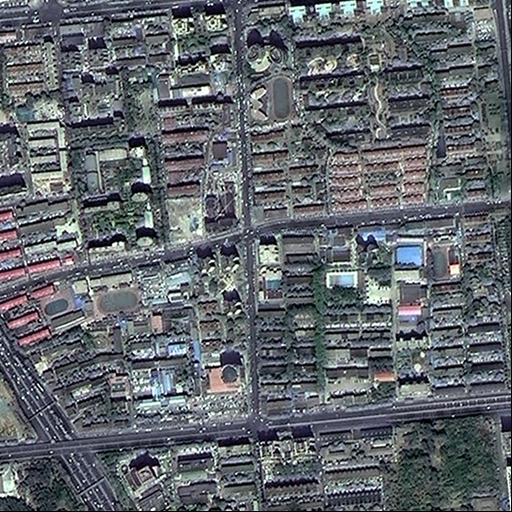school: (72, 268, 143, 330), (246, 68, 296, 129), (35, 282, 86, 335), (427, 229, 463, 282)
